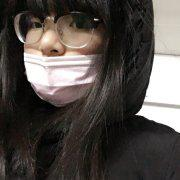WRONG: (22, 3, 120, 103)
